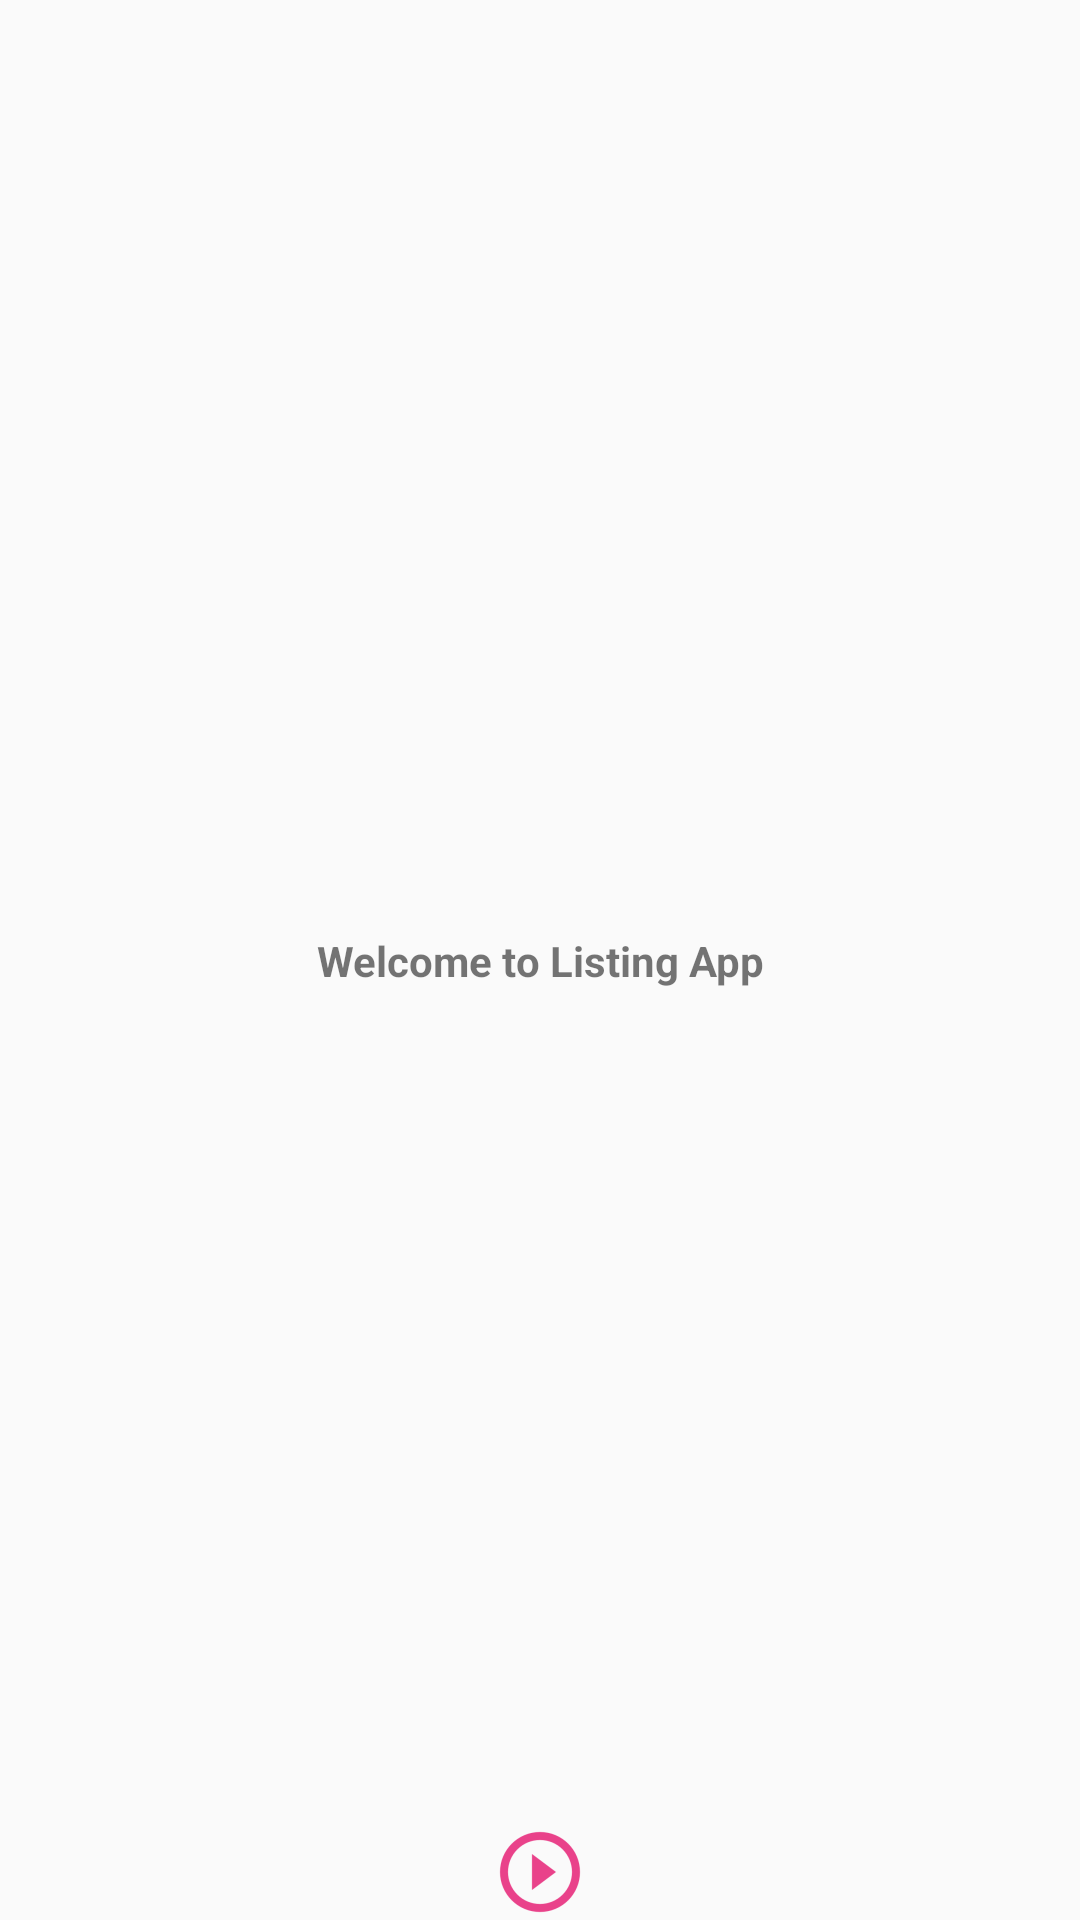

Point at icon controls on the screen. Image size 1080px×1920px, points as (x,y).
play: (540,1872)
